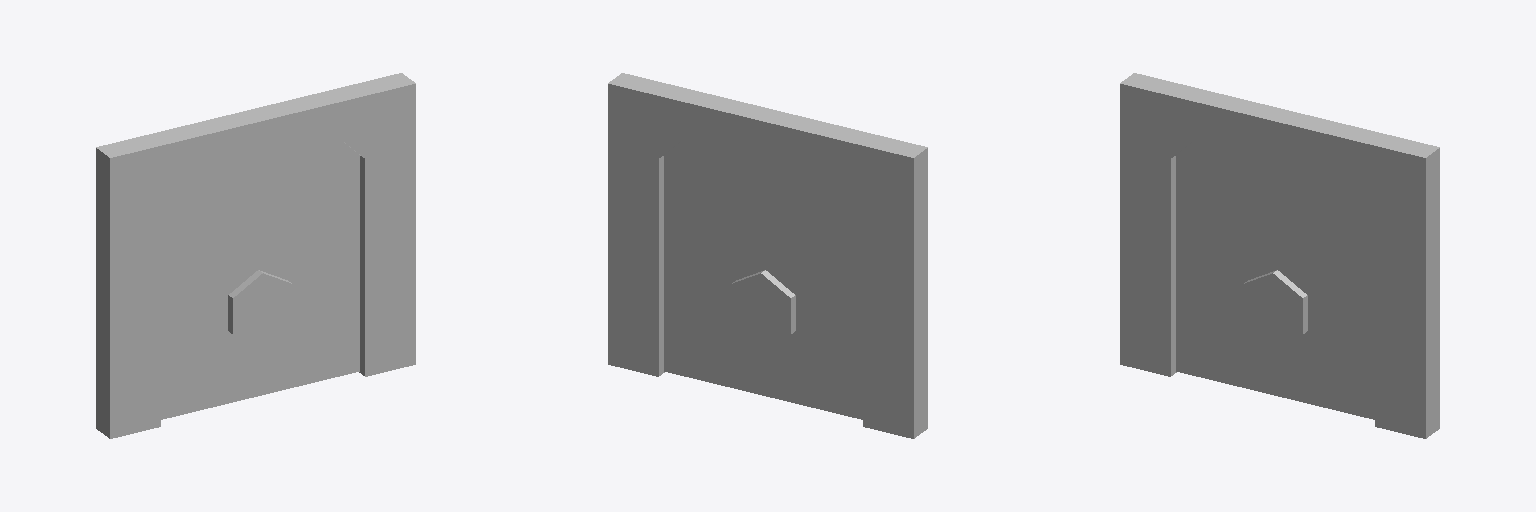
The model's file is door03_frame_door_col.obj.
3 views of the same model, side by side, from view 1: azimuth 30°, elevation 25°; view 2: azimuth 150°, elevation 25°; view 3: azimuth 330°, elevation 25° (orthographic).
Parts seen in each view (by area): view 1: door03_frame_door_col.obj; view 2: door03_frame_door_col.obj; view 3: door03_frame_door_col.obj.
Boxes of the visible parts, x1=… form: door03_frame_door_col.obj: x1=96, y1=73, x2=415, y2=438; door03_frame_door_col.obj: x1=608, y1=73, x2=927, y2=438; door03_frame_door_col.obj: x1=1120, y1=73, x2=1439, y2=438.
Bounding box in the file's own units: 2.3 × 2.02 × 0.192.